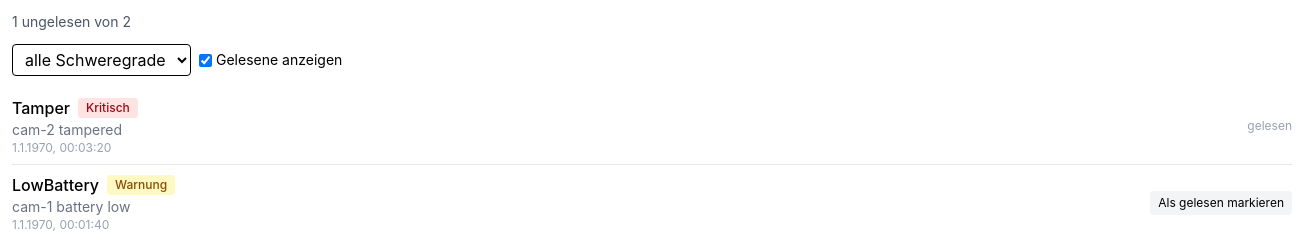
NotificationCenter › can hide already-acknowledged notifications
Click the checkbox labelled "Gelesene anzeigen" at (206, 60), box [199,54,212,66]
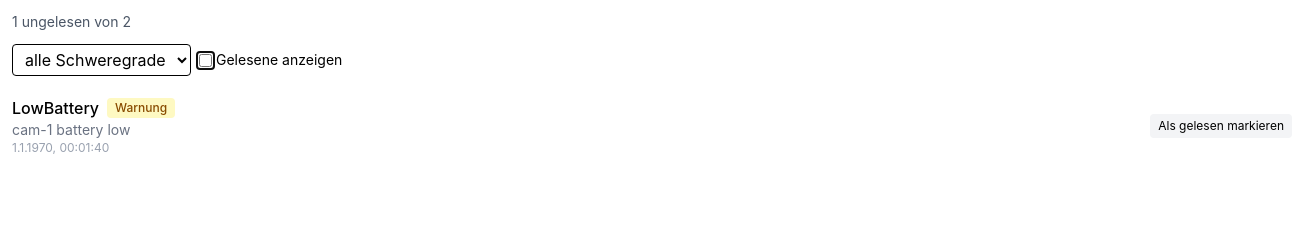
Check: the text "LowBattery" is shown, box [12,98,99,118]
Check: the text "Tamper" is gone
